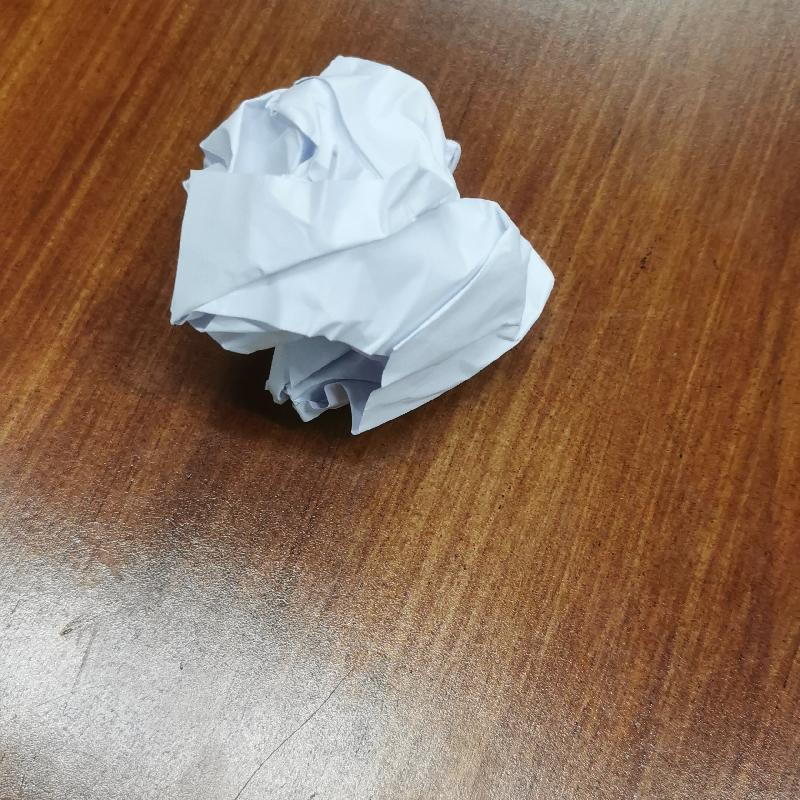spitball: (161, 44, 559, 445)
